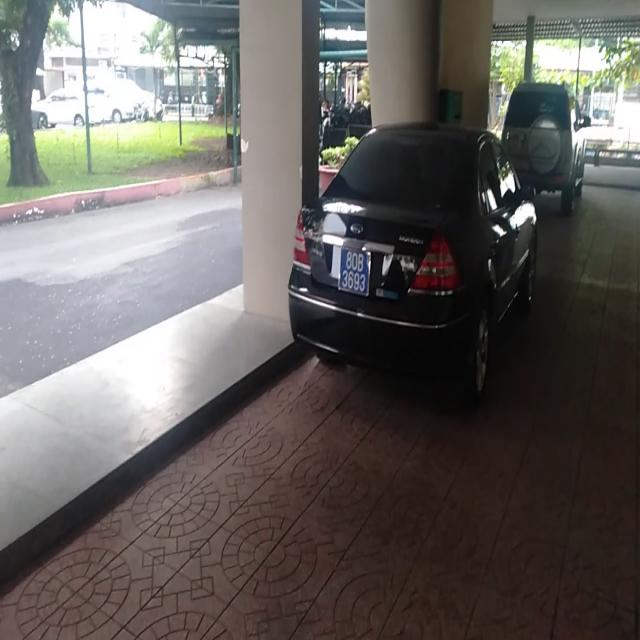bien_xanh: (338, 245, 373, 302)
